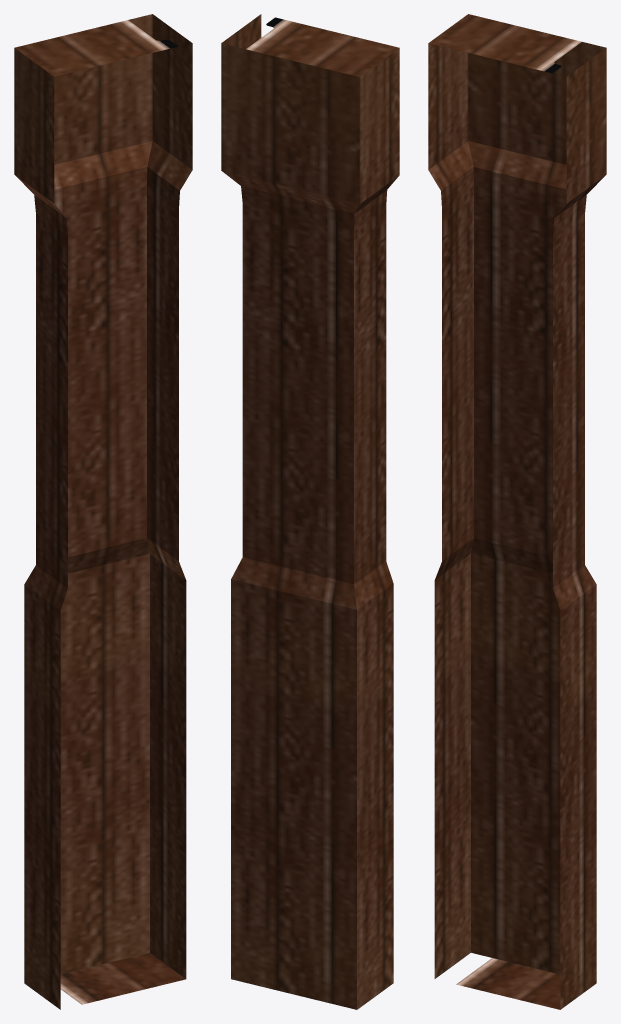
The model's file is Pillar2.fbx.
3 views of the same model, side by side, from view 1: azimuth 30°, elevation 25°; view 2: azimuth 150°, elevation 25°; view 3: azimuth 330°, elevation 25° (orthographic).
Parts seen in each view (by area): view 1: Cube.010; view 2: Cube.010; view 3: Cube.010.
Part boxes in pixels (<box>): Cube.010: <box>14,14,192,1009</box>; Cube.010: <box>221,14,399,1009</box>; Cube.010: <box>428,14,606,1009</box>.
Bounding box in the file's own units: 74.87 × 484 × 37.44.
